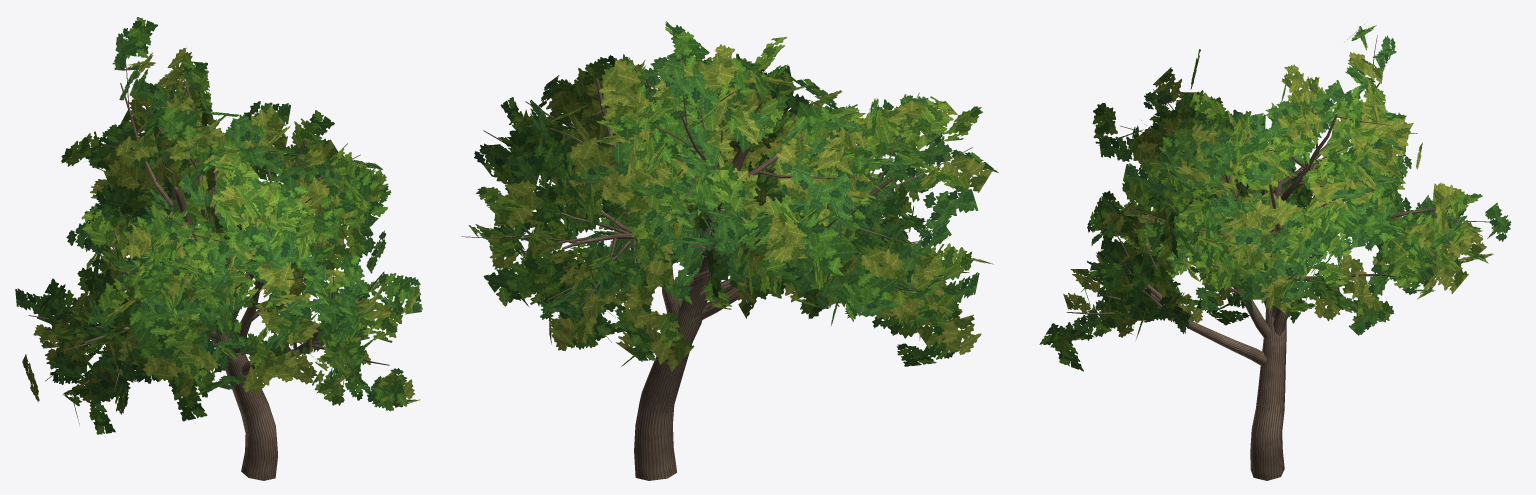
File: hero_oak_c_lod1.obj
The picture shows the model from 3 angles, left to right: view 1: azimuth 30°, elevation 25°; view 2: azimuth 150°, elevation 25°; view 3: azimuth 270°, elevation 25°; orthographic projection. The views are drawn at different scales.
Parts seen in each view (by area): view 1: hero_oak_c_lod1; view 2: hero_oak_c_lod1; view 3: hero_oak_c_lod1.
Boxes of the visible parts, x1,y1,x2,y2 form: hero_oak_c_lod1: (15, 17, 422, 480); hero_oak_c_lod1: (461, 21, 998, 480); hero_oak_c_lod1: (1039, 24, 1511, 480).
Bounding box in the file's own units: 15.16 × 16.58 × 17.21.
Materials: 2 (2 with a texture image).
